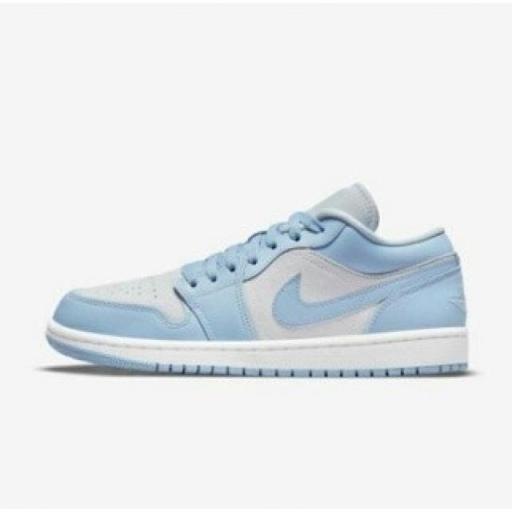Nike: (264, 258, 454, 332)
